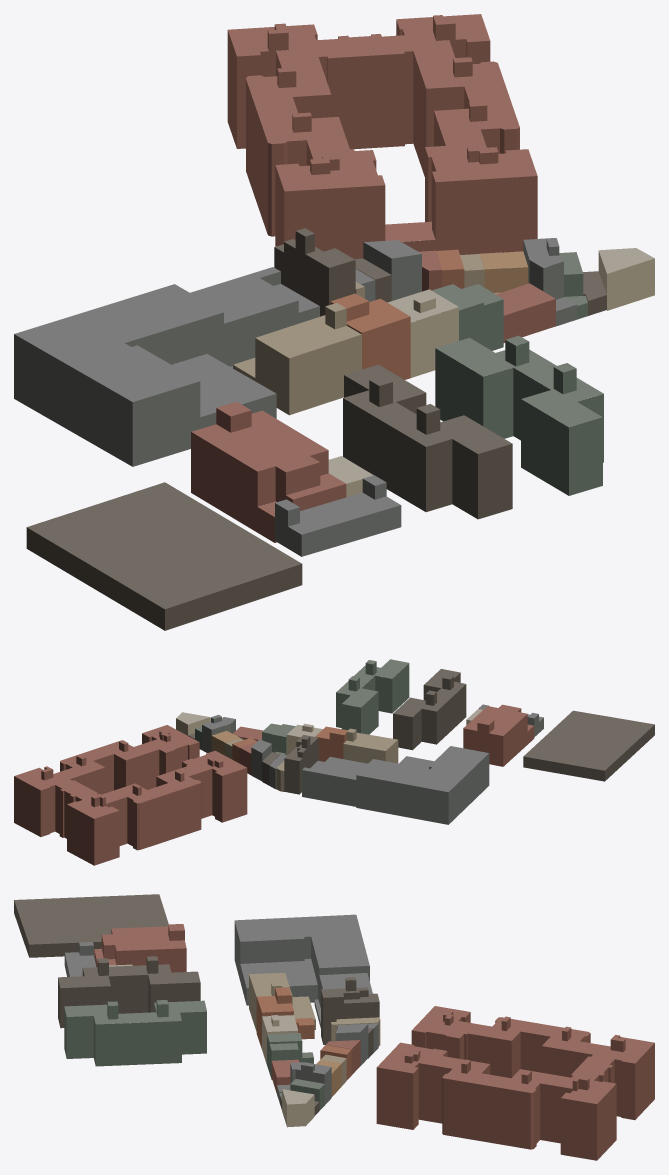
The model's file is tile-6_9.glb.
3 renders of one model, top to bottom at view 1: azimuth 30°, elevation 25°; view 2: azimuth 150°, elevation 25°; view 3: azimuth 270°, elevation 25°, orthographic. The views are drawn at different scales.
Visible parts, largest first — view 1: wall, roof; view 2: wall, roof; view 3: wall, roof.
Part boxes in pixels (x1=…): wall: x1=14, y1=16, x2=654, y2=630; roof: x1=14, y1=14, x2=654, y2=609; wall: x1=14, y1=662, x2=654, y2=865; roof: x1=14, y1=659, x2=654, y2=818; wall: x1=14, y1=900, x2=654, y2=1160; roof: x1=14, y1=894, x2=654, y2=1106.
Bounding box in the file's own units: 222 × 29.57 × 248.
